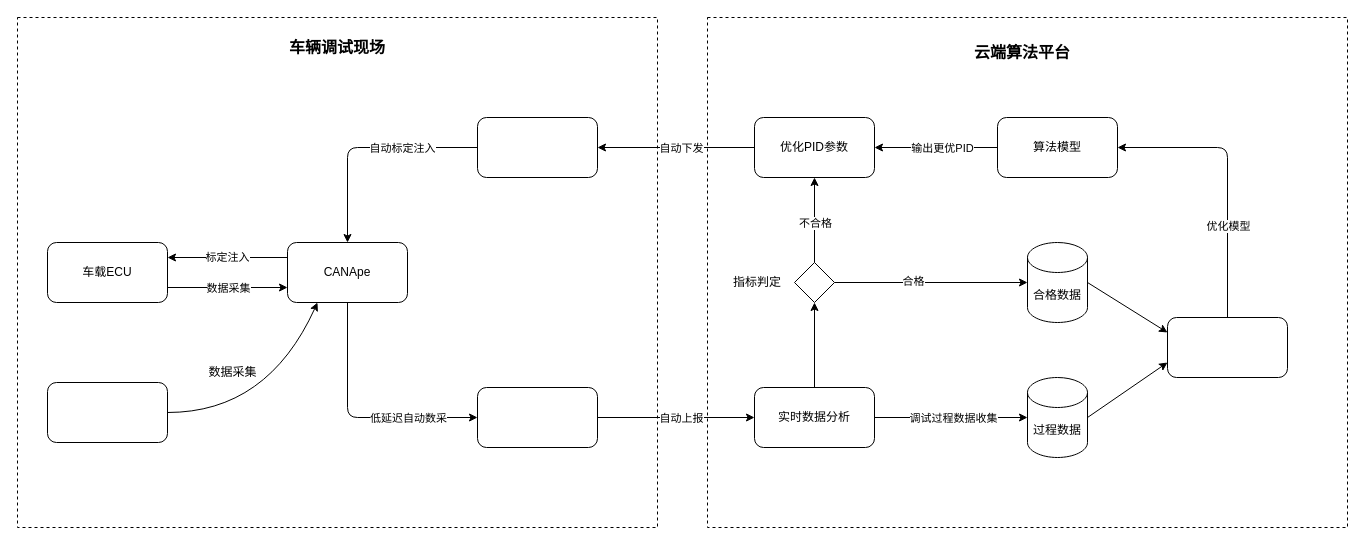
Image size: 1365x545. Some labels were removed from this diagram. The box of each missing label's shape, as (x1, y1, x2, y2) in pixels:
ADAS: (46, 382, 168, 442)
数据采集程序: (476, 386, 598, 448)
标定注入程序: (476, 116, 598, 178)
算法训练: (1166, 316, 1288, 378)
